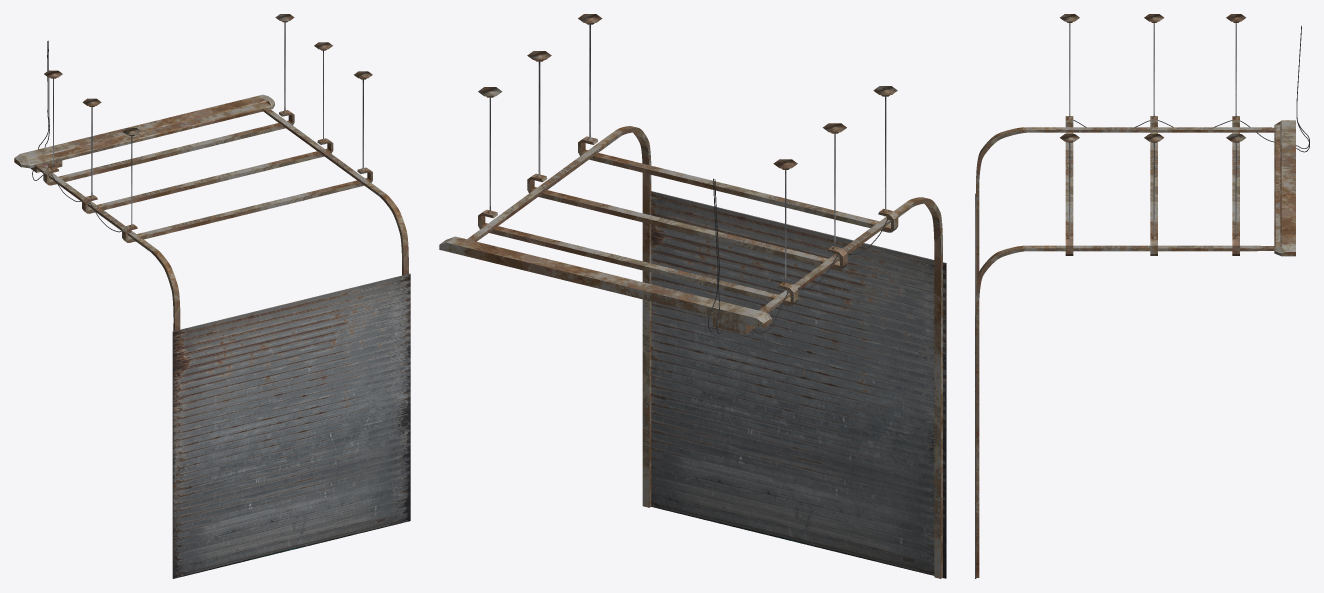
The model's file is GarageDoor.fbx.
3 renders of one model, left to right at view 1: azimuth 30°, elevation 25°; view 2: azimuth 150°, elevation 25°; view 3: azimuth 270°, elevation 25°, orthographic. The views are drawn at different scales.
Visible parts, largest first — view 1: Frame, DoorSection1, DoorSection10, DoorSection7, DoorSection8, DoorSection12, DoorSection13, DoorSection14, DoorSection3, DoorSection5, DoorSection11, DoorSection2 (+3 smaller); view 2: Frame, DoorSection8, DoorSection10, DoorSection12, DoorSection11, DoorSection14, DoorSection9, DoorSection13, DoorSection7, DoorSection1, DoorSection6, DoorSection3 (+3 smaller); view 3: Frame.
Part boxes in pixels (<box>): Frame: <box>14,14,408,331</box>; DoorSection1: <box>172,273,410,349</box>; DoorSection10: <box>172,433,410,508</box>; DoorSection7: <box>172,380,410,455</box>; DoorSection8: <box>172,397,410,472</box>; DoorSection12: <box>172,468,410,543</box>; DoorSection13: <box>172,486,410,561</box>; DoorSection14: <box>172,503,410,578</box>; DoorSection3: <box>172,309,410,384</box>; DoorSection5: <box>172,344,410,419</box>; DoorSection11: <box>172,450,410,525</box>; DoorSection2: <box>172,291,410,366</box>; Frame: <box>439,14,942,578</box>; DoorSection8: <box>651,349,946,443</box>; DoorSection10: <box>651,394,946,488</box>; DoorSection12: <box>651,439,946,533</box>; DoorSection11: <box>651,417,946,510</box>; DoorSection14: <box>651,484,946,578</box>; DoorSection9: <box>651,372,946,465</box>; DoorSection13: <box>651,462,946,555</box>; DoorSection7: <box>651,327,946,420</box>; DoorSection1: <box>651,191,946,285</box>; DoorSection6: <box>651,304,946,398</box>; DoorSection3: <box>651,237,946,330</box>; Frame: <box>976,14,1309,577</box>.
Bounding box in the file's own units: 32.71 × 51.46 × 35.15.
